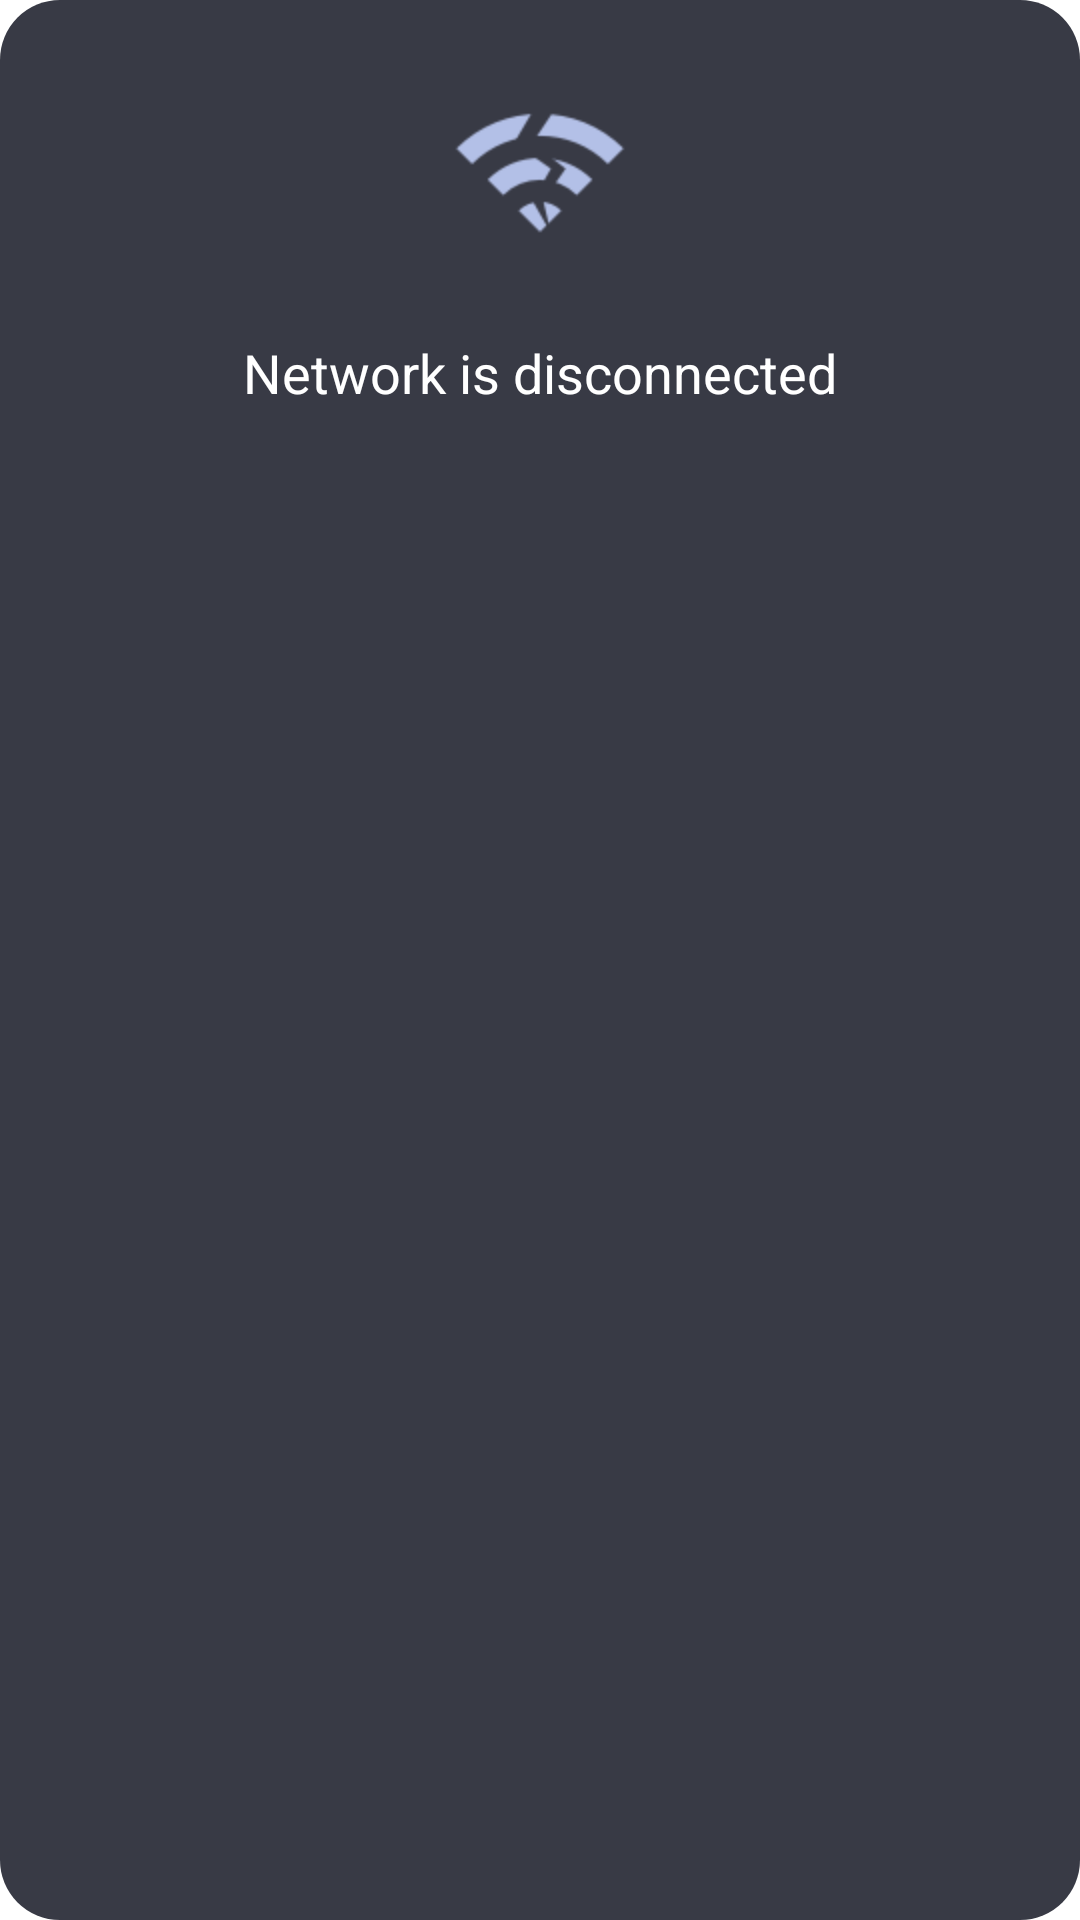

Named icons in this screenshot (1080 x 1920) and their bounding boxes, (x1, y1, x2, y2):
network disconnect: (456, 113, 624, 232)
